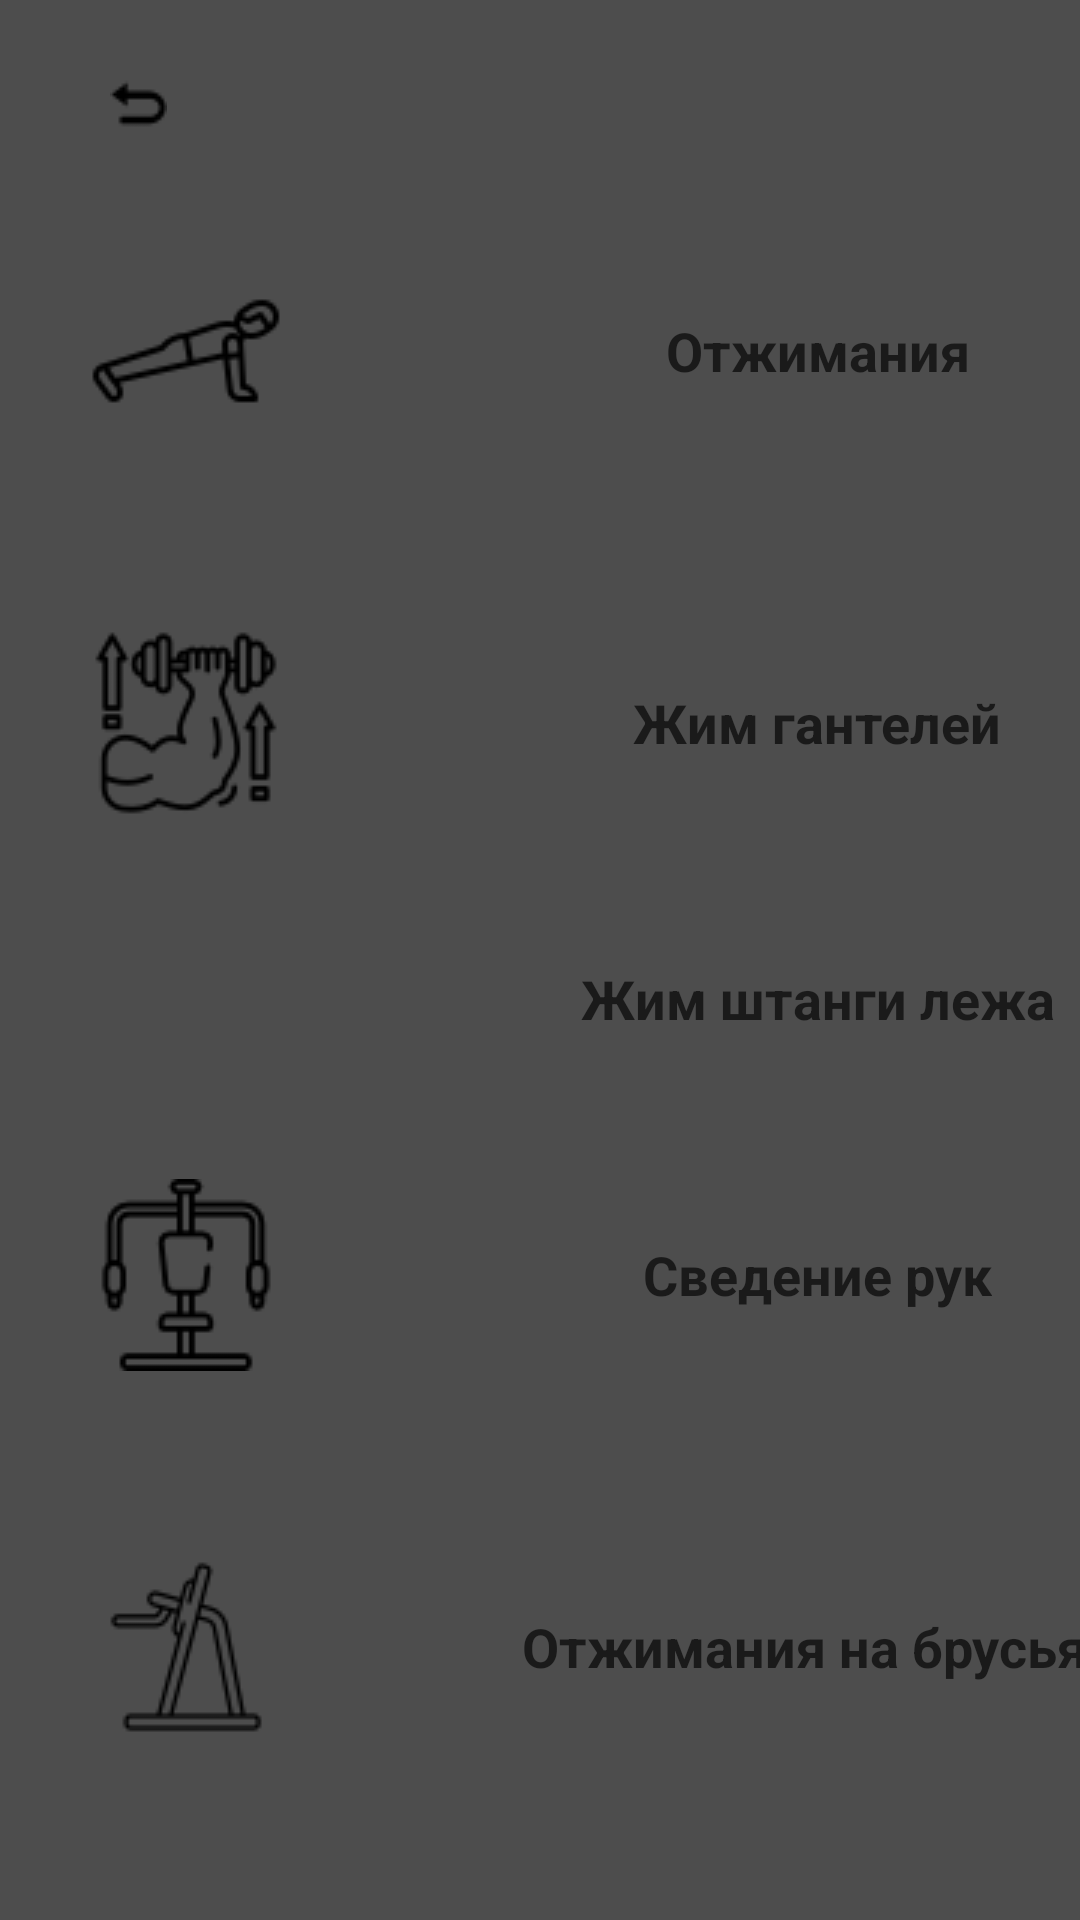

Icon bounding boxes for this 1080x1920 phone screenshot, format (x1, y1, x2, y2):
butterfly: (102, 1179, 270, 1371)
push upp: (92, 299, 280, 403)
return: (112, 84, 167, 124)
up ganteli: (96, 633, 276, 813)
